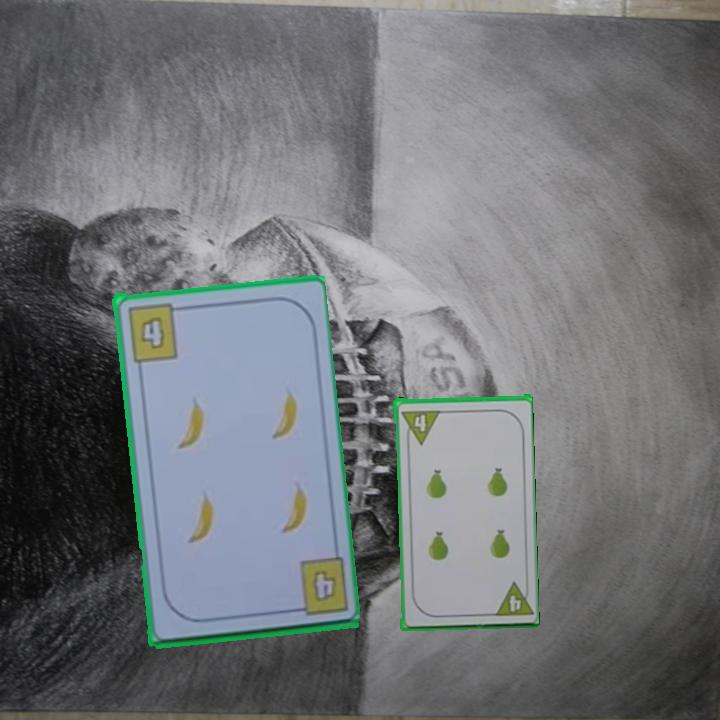4b: (123, 299, 186, 364), (308, 565, 339, 605)
4p: (489, 578, 533, 619), (397, 406, 442, 446)
